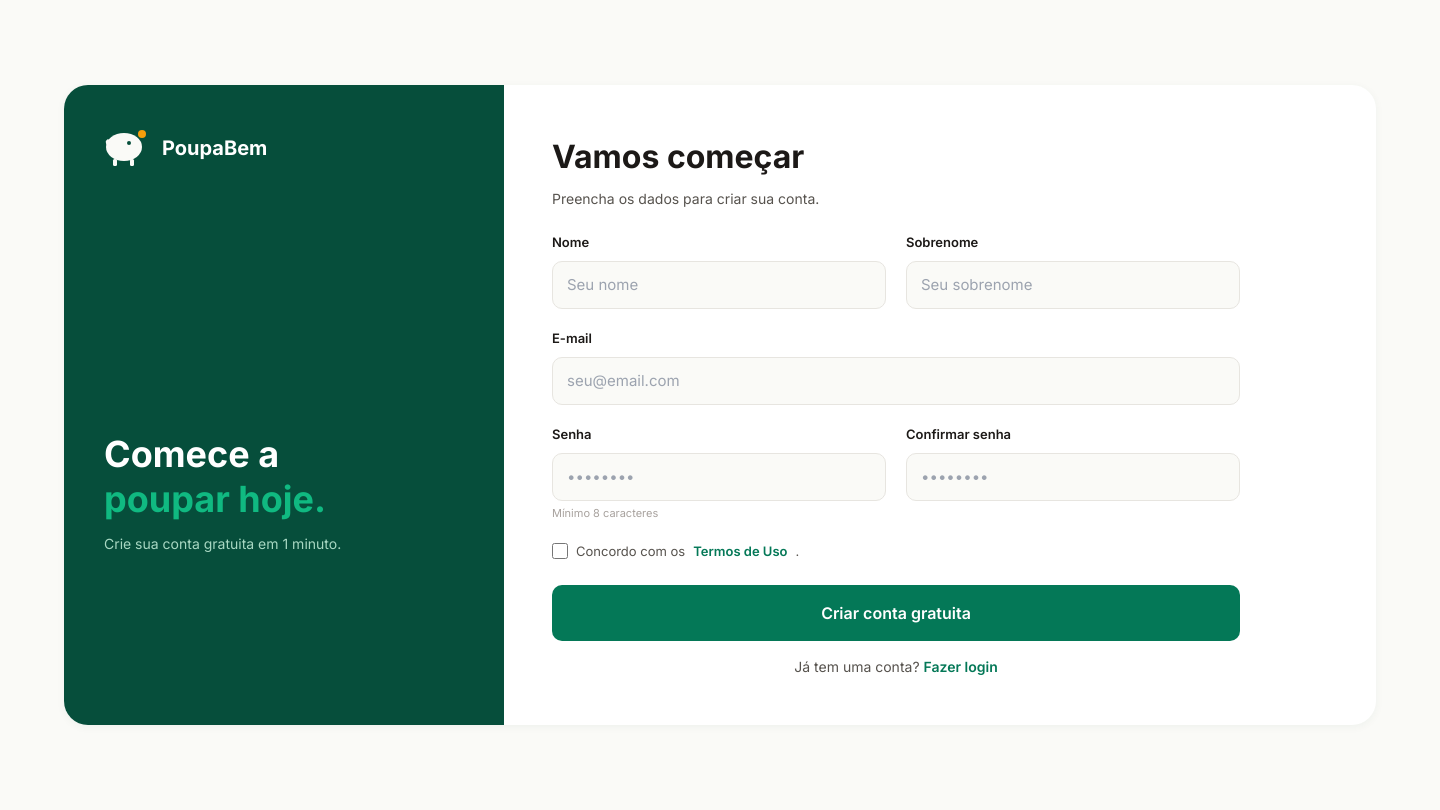
Test: Cadastro (integração) › exige aceite dos Termos de Uso
Type "Ana" into the field with placeholder "Seu nome" at [719, 285], box [552,260,886,309]
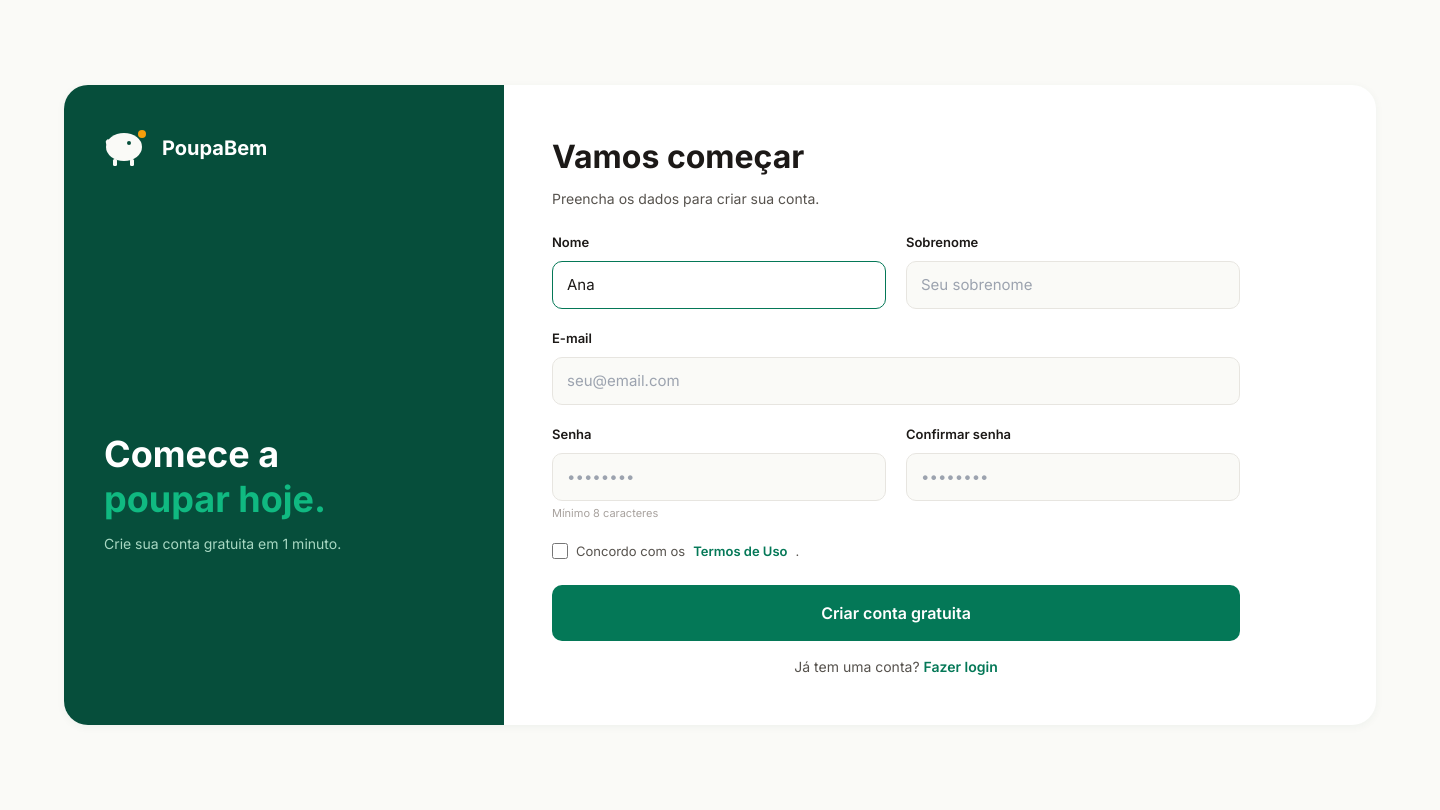
Type "Silva" into the field with placeholder "Seu sobrenome" at [1073, 285], box [906,260,1240,309]
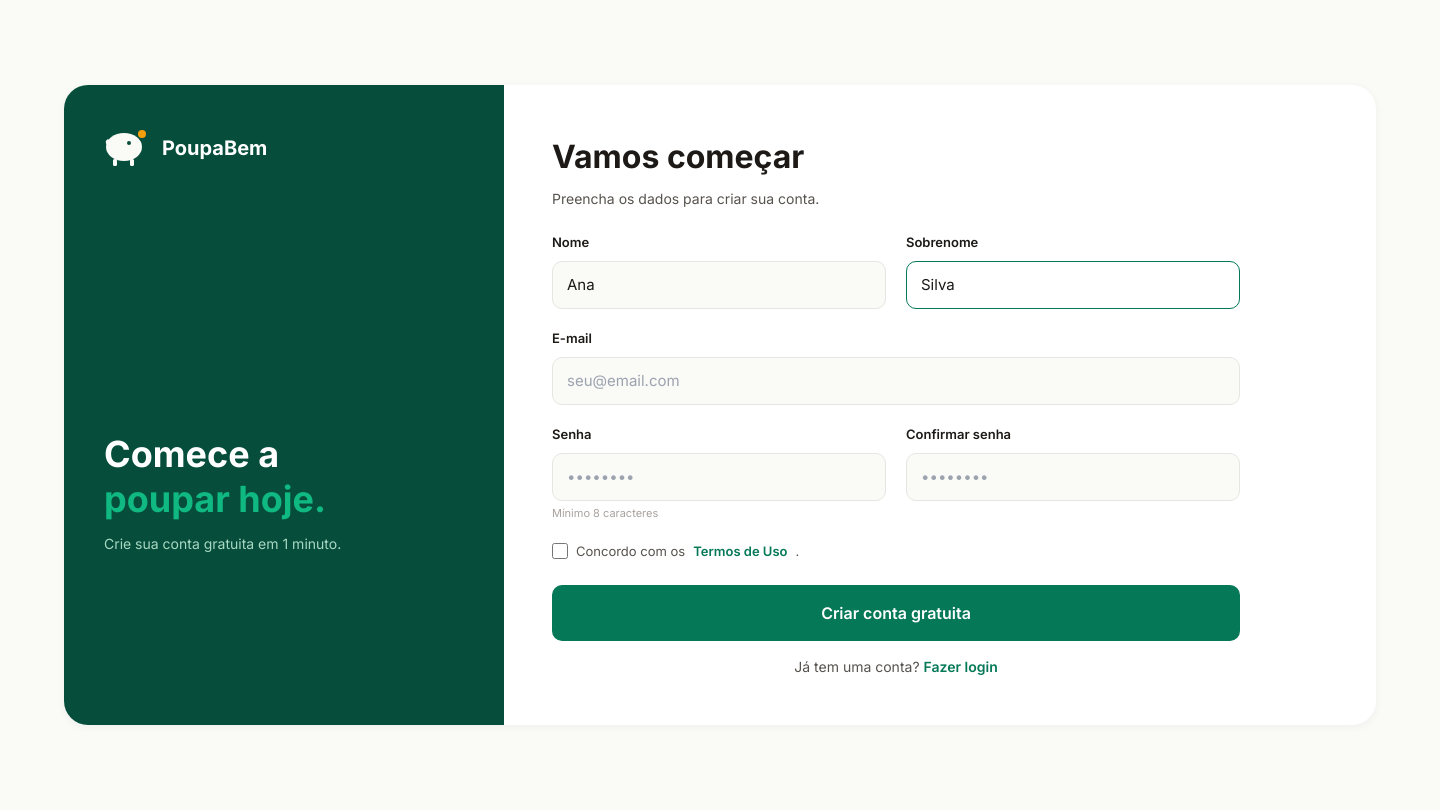
Type "ana@test.com" into the field with placeholder "seu@email.com" at [896, 381], box [552,356,1240,405]
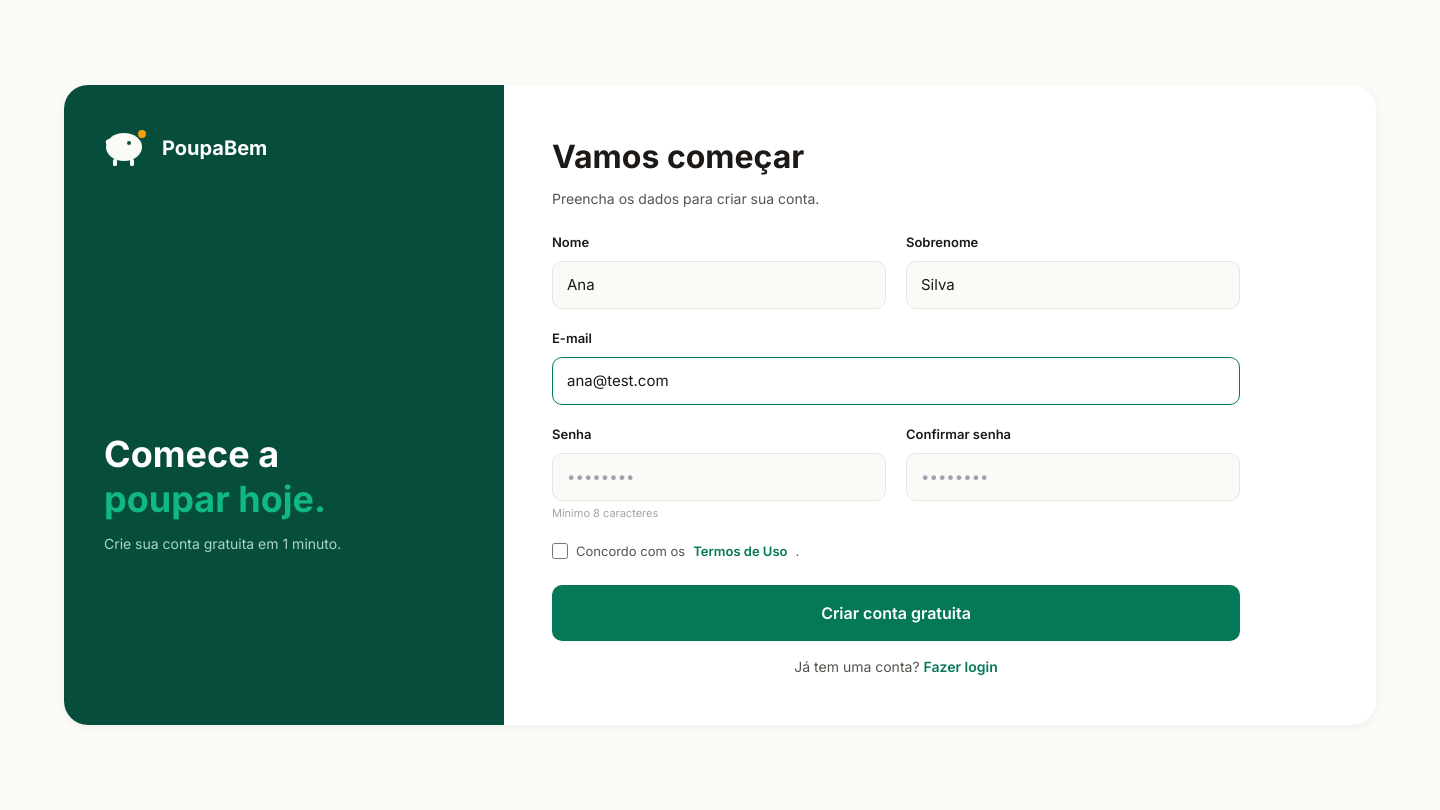
Type "Senha@123" into the 1st password field with placeholder "••••••••" at [719, 477], box [552,452,886,501]
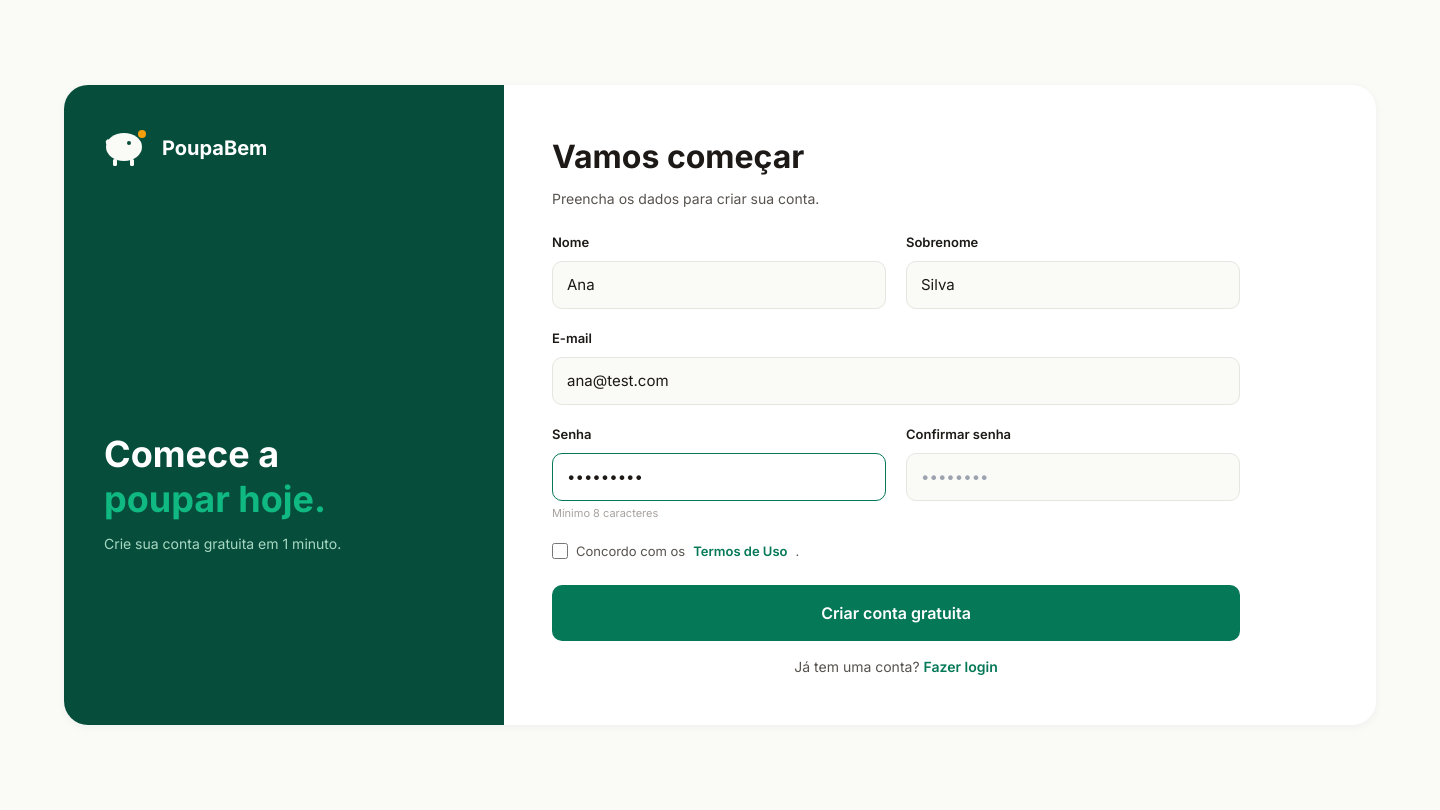
Type "Senha@123" into the password field with placeholder "••••••••" at [1073, 477], box [906,452,1240,501]
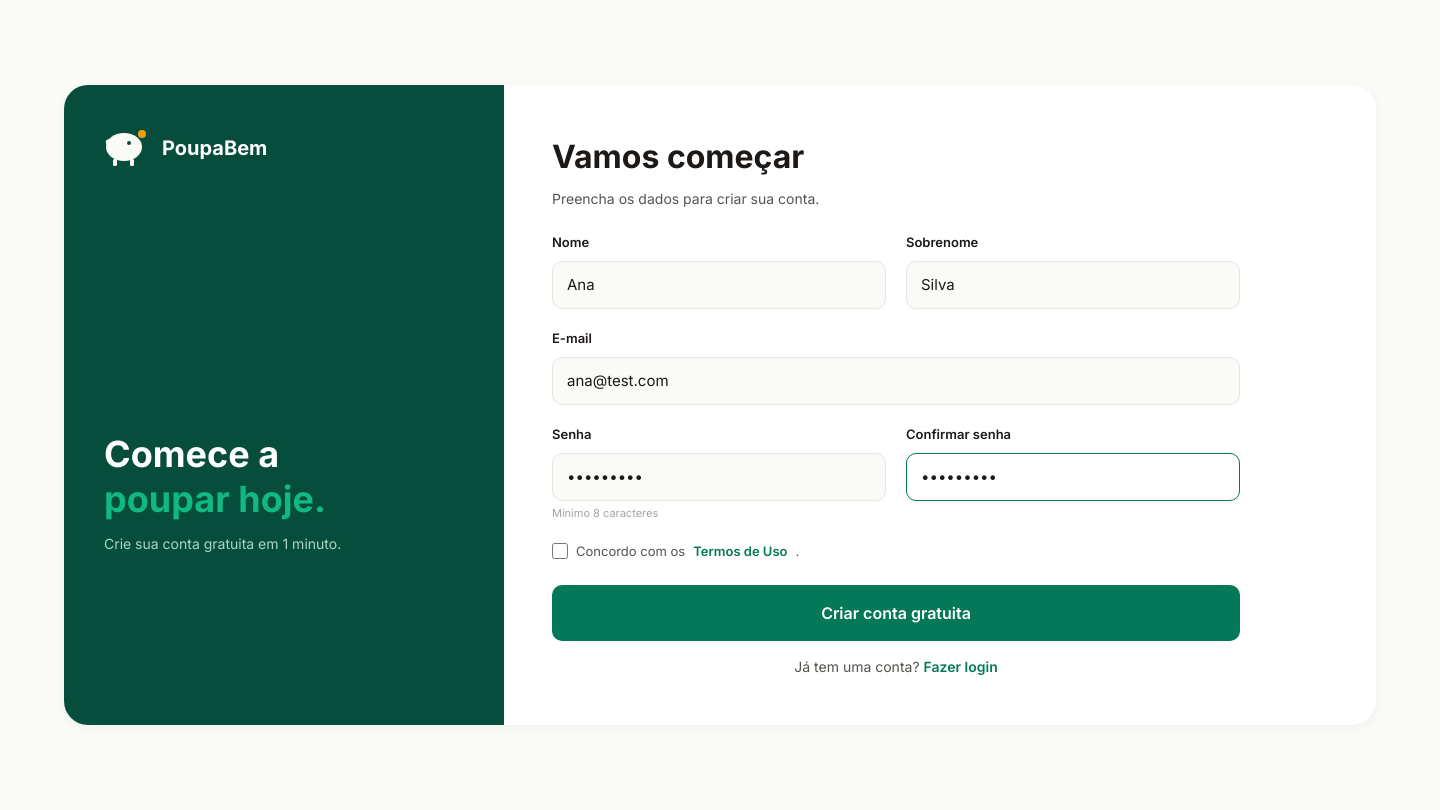
Click the button "Criar conta gratuita" at [896, 613], box [552,585,1240,641]
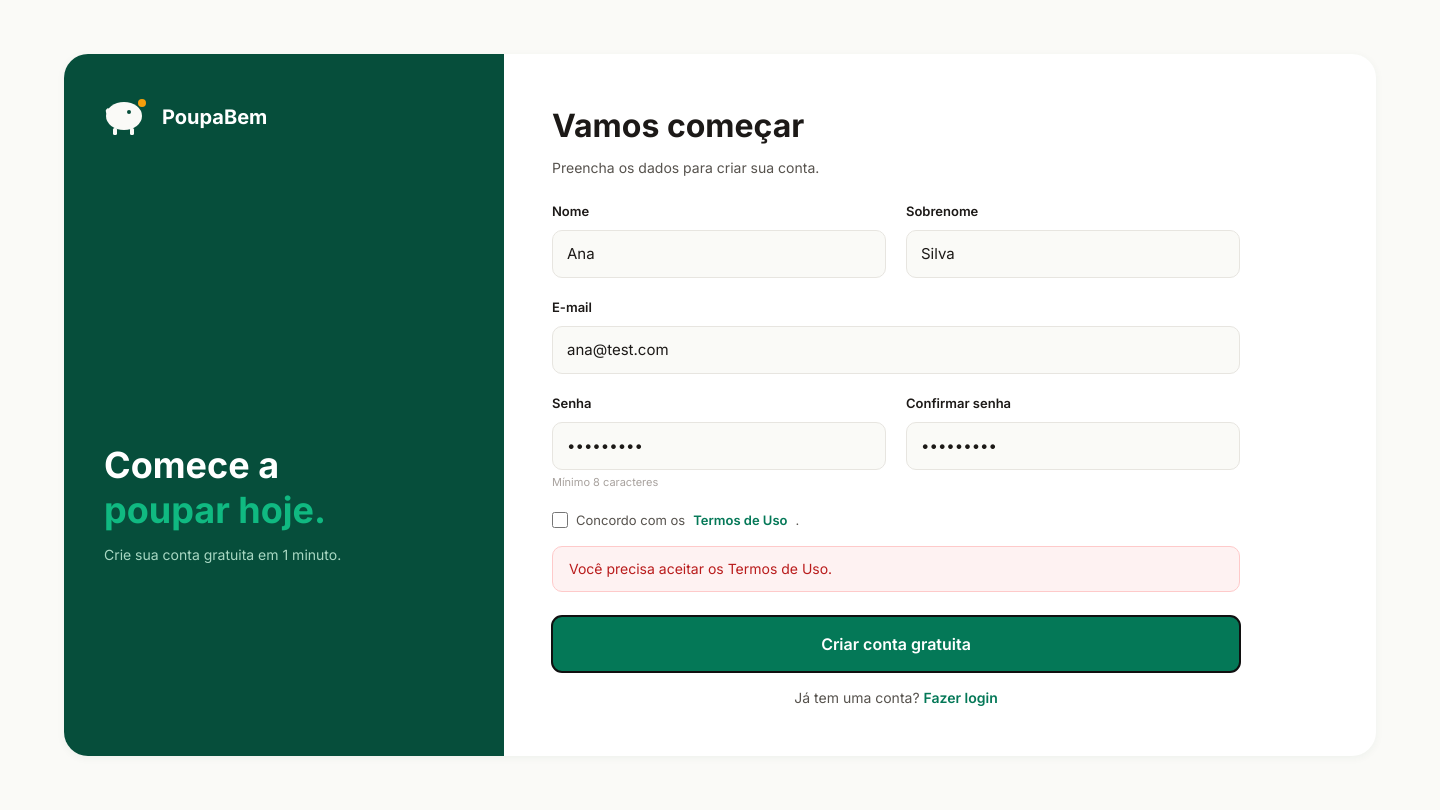
Now the text "Você precisa aceitar os Termos de Uso." is shown, box [552,546,1240,592]
